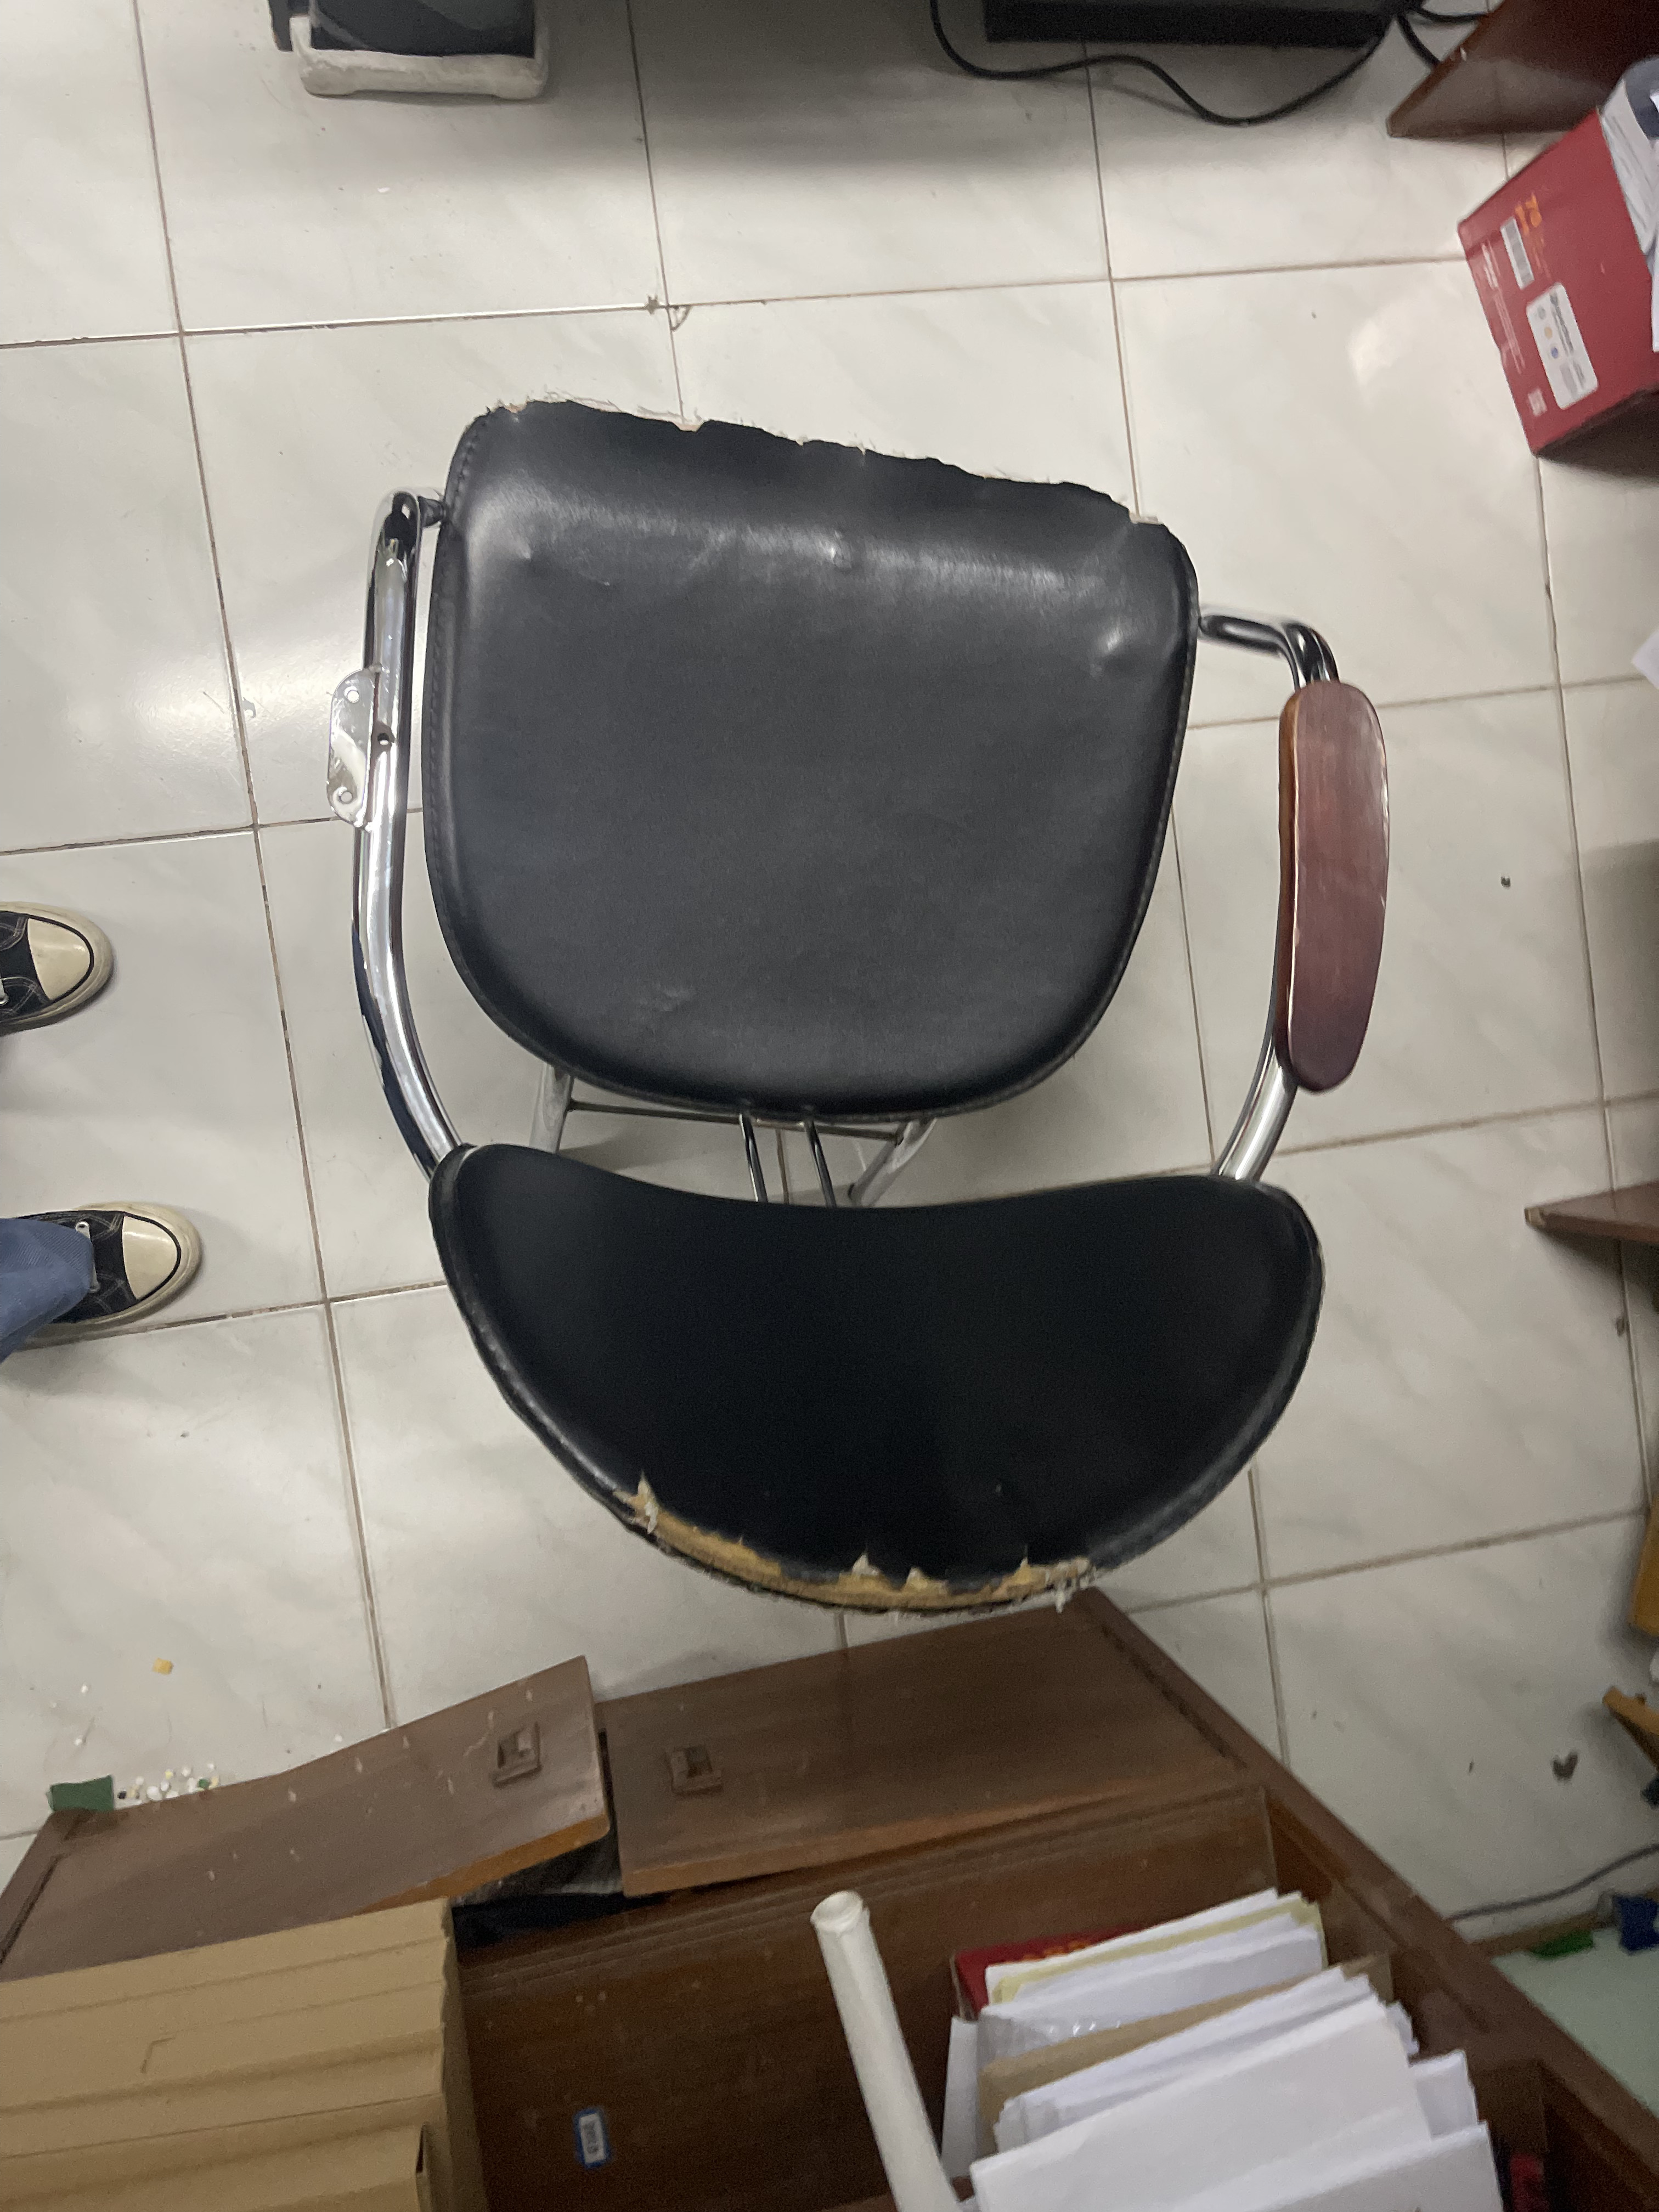chair1: (331, 388, 1399, 1646)
